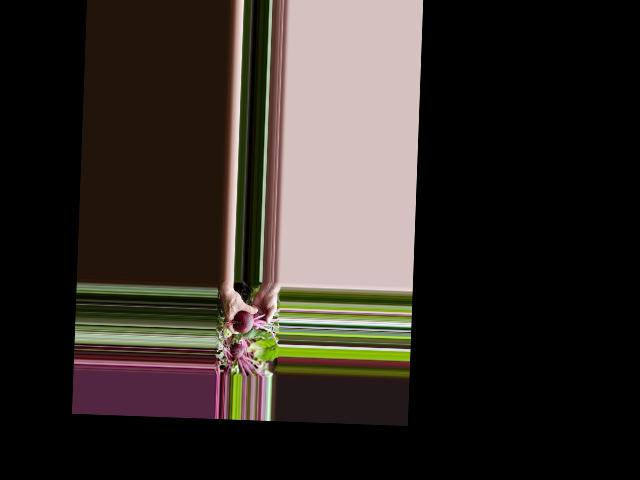beet: (231, 309, 279, 347)
